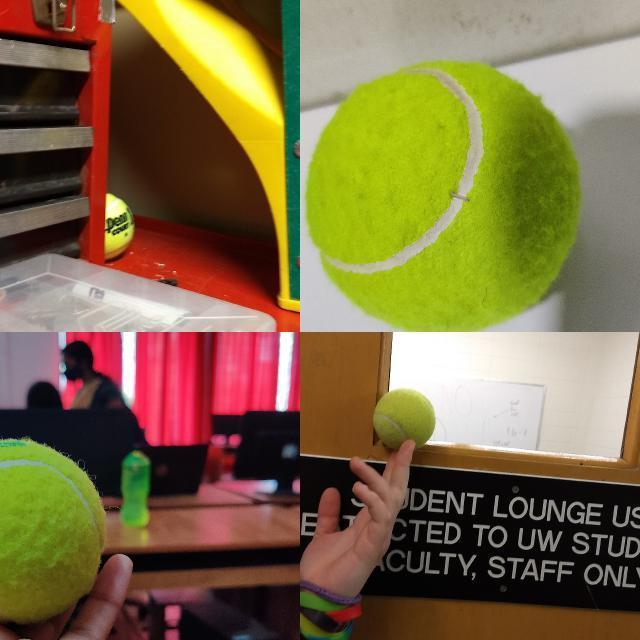tennis-ball: (302, 58, 582, 331), (0, 438, 106, 625), (372, 387, 436, 451), (106, 192, 134, 261)
